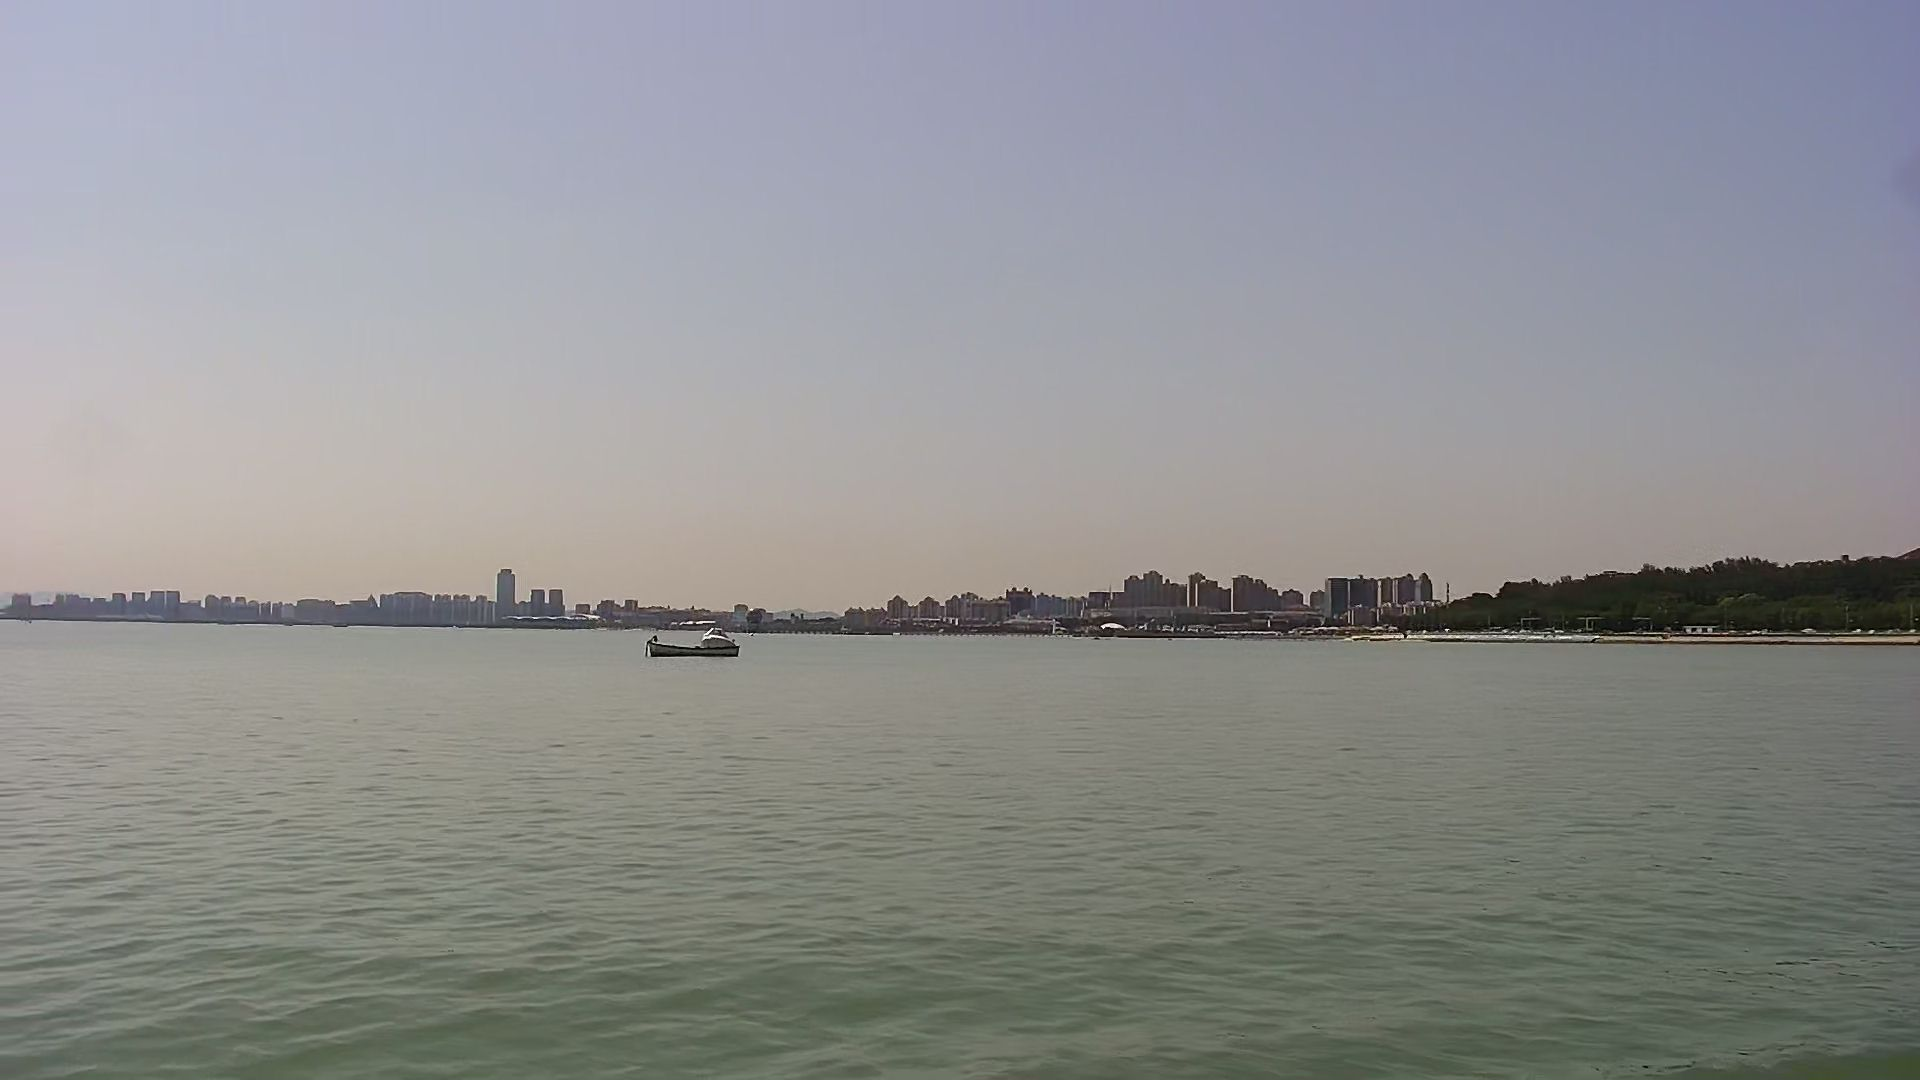boat: (636, 632, 749, 662)
